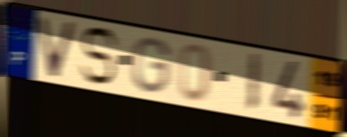0: (177, 42, 214, 104)
4: (270, 59, 306, 121)
G: (130, 35, 172, 95)
I: (244, 51, 262, 116)
S: (78, 25, 120, 87)
V: (35, 15, 78, 81)
